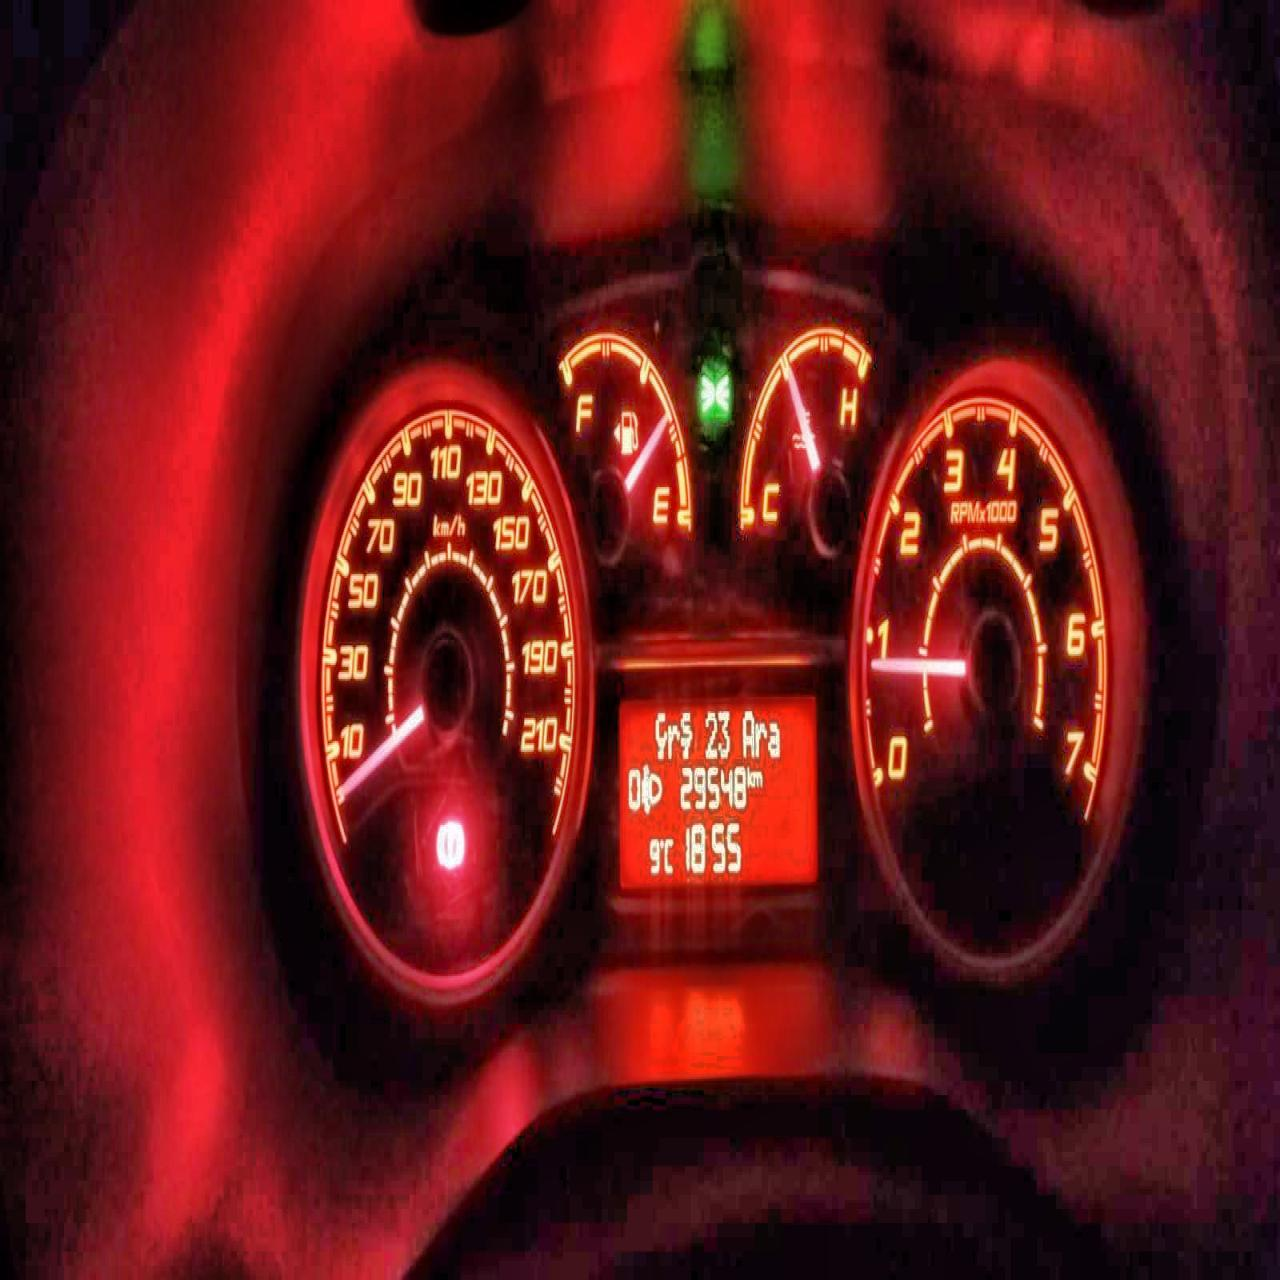0: (627, 764, 640, 812)
1: (684, 820, 690, 876)
2: (704, 709, 717, 761), (679, 764, 692, 810)
3: (717, 706, 731, 756)
4: (720, 764, 733, 809)
5: (710, 820, 725, 874), (726, 818, 740, 873), (706, 763, 720, 809)
8: (690, 819, 705, 873), (734, 765, 746, 807)
9: (694, 763, 706, 807), (649, 837, 659, 875)
X: (740, 708, 754, 758), (680, 708, 693, 759), (654, 711, 666, 759), (768, 720, 781, 761), (666, 720, 680, 757), (754, 720, 766, 757), (664, 834, 674, 873), (753, 766, 764, 790), (746, 763, 752, 789)
odometer: (613, 686, 822, 886)
